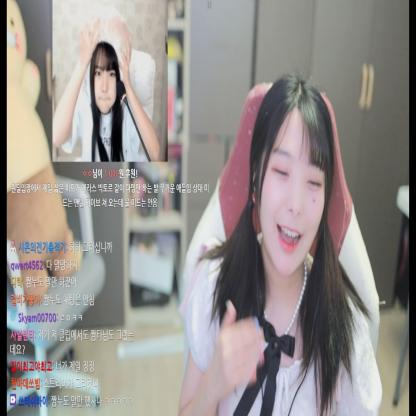donation: (11, 1, 209, 207)
streamer: (179, 71, 382, 416)
